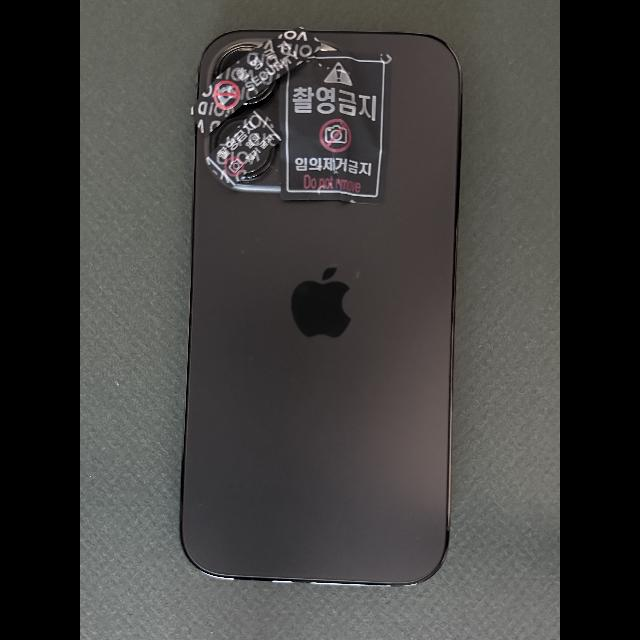lens: (221, 48, 255, 73), (221, 118, 248, 142)
phone: (179, 29, 463, 586)
sticker: (278, 50, 392, 205), (190, 26, 322, 132), (203, 110, 283, 188)
